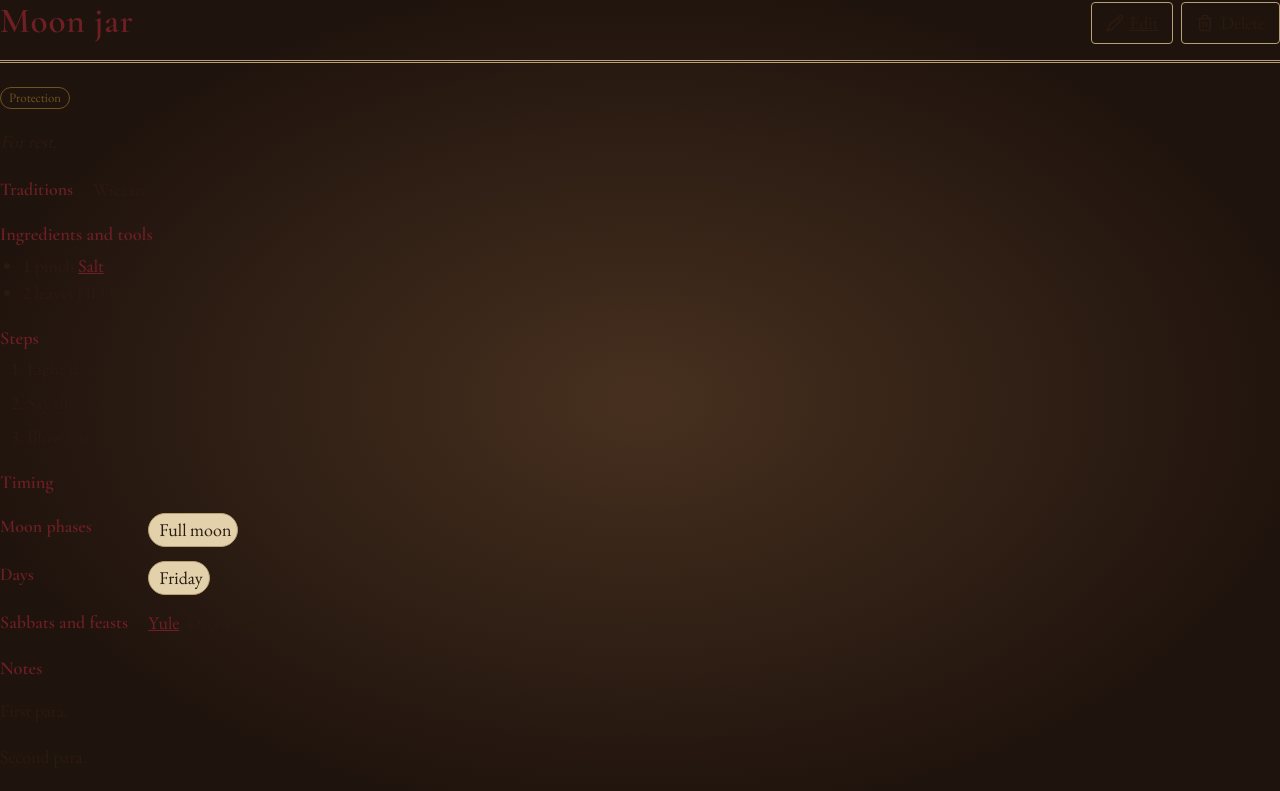
Scenario: Rituals on the spell page › asks with the count when rituals use the spell
Step 1. Click the button "Delete" → (1231, 23), box top-left (1181, 2), bottom-right (1279, 44)
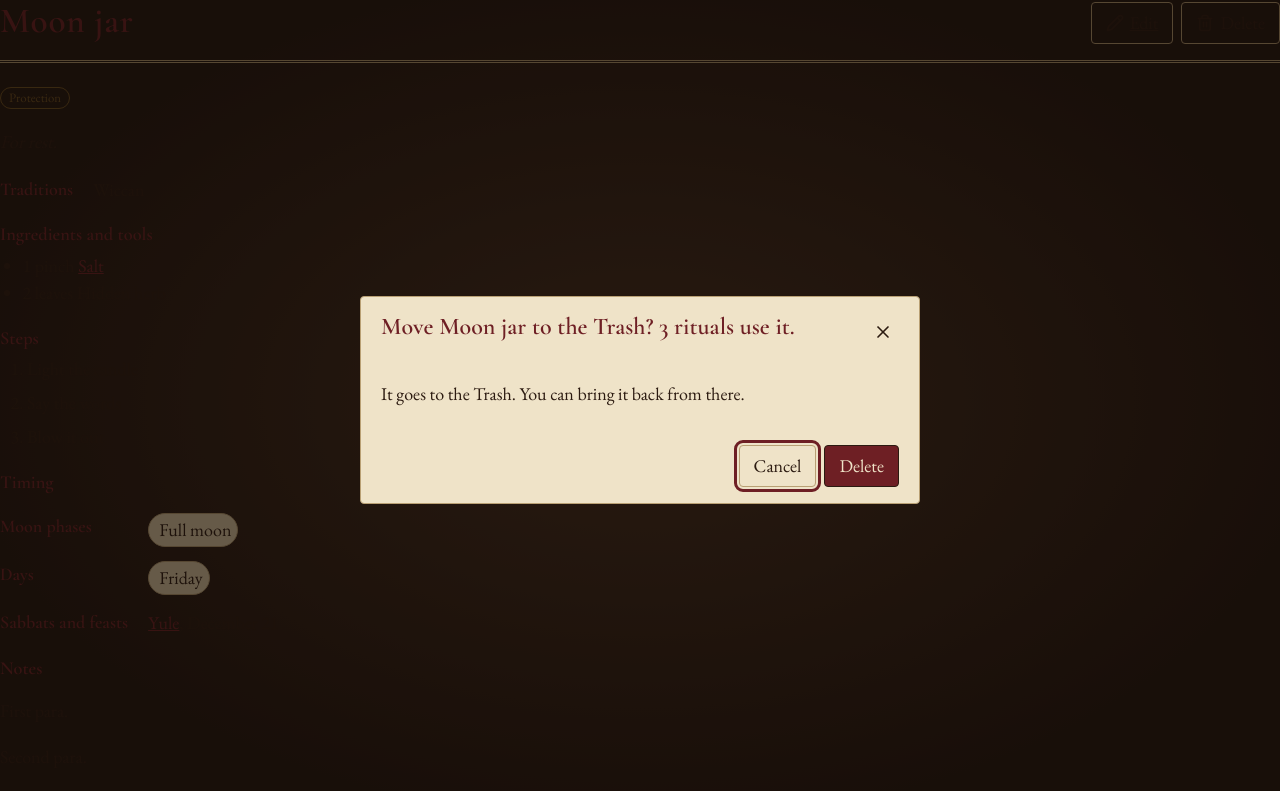
Check: the heading "Move Moon jar to the Trash? 3 rituals use it." is shown, box top-left (381, 313), bottom-right (795, 342)
